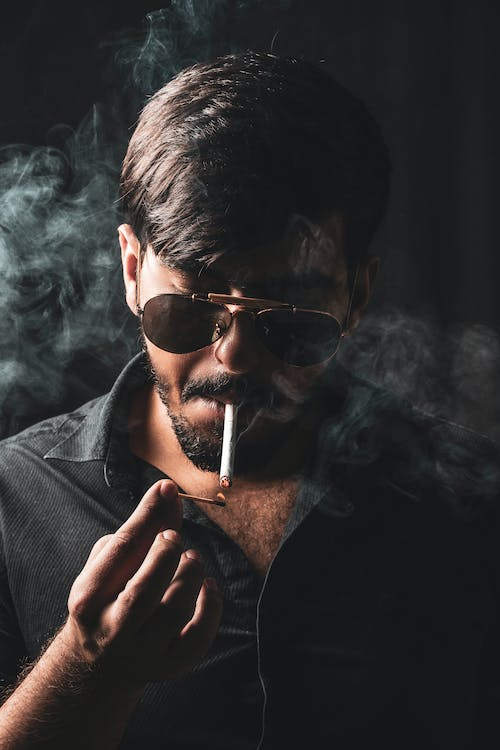cigarette: (217, 401, 241, 491)
